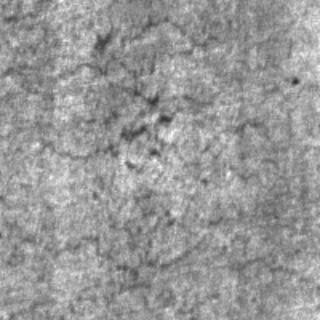crazing: (0, 12, 214, 168), (117, 190, 315, 270), (0, 230, 140, 318)
